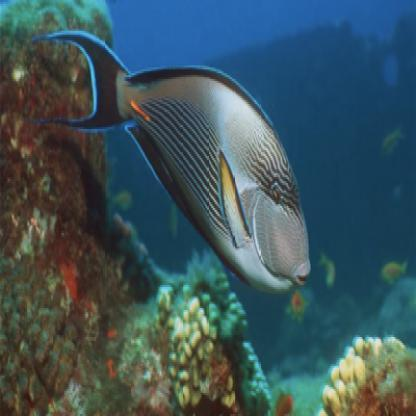Bio: (28, 25, 313, 295)
